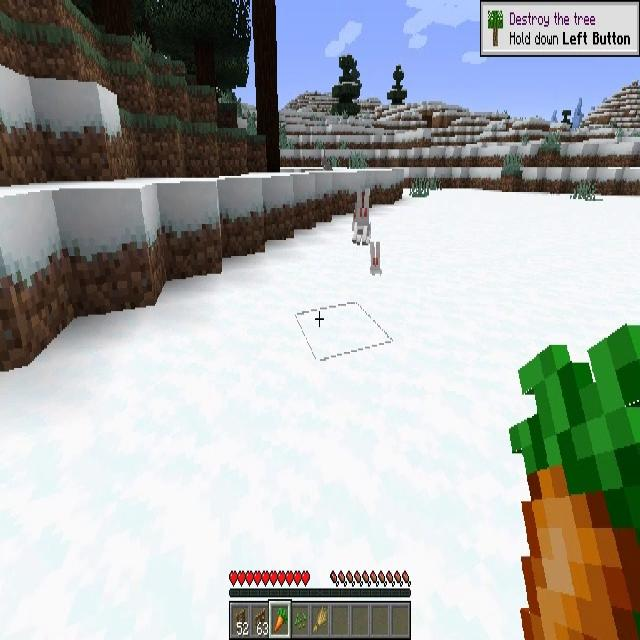rabbit: (353, 192, 372, 245), (370, 239, 382, 278)
